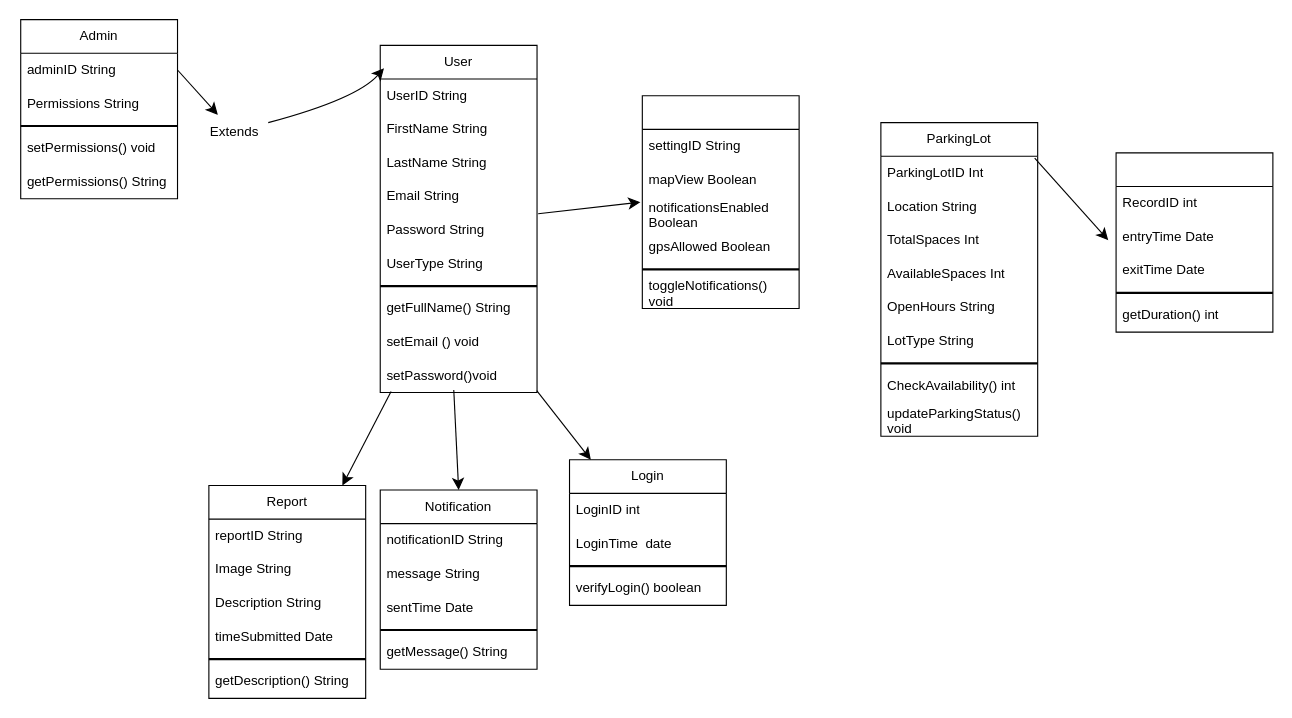
The diagram is 1292 pixels wide and 718 high, and some of its shapes have lost their labels. Here are the shapes that lost their labels. From the top down, the box of each, then its label:
(641, 95, 799, 309): Settings
(1115, 152, 1273, 332): ParkingRecord
